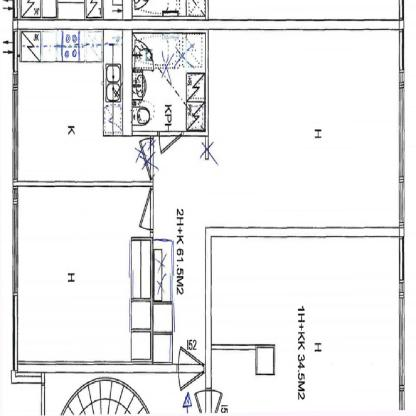door: (176, 346, 206, 390), (137, 189, 158, 234), (136, 140, 157, 178), (194, 390, 222, 416), (157, 130, 185, 155)
window: (12, 72, 18, 180), (13, 187, 19, 292), (400, 71, 404, 223), (400, 281, 404, 409)
zone: (150, 31, 400, 363), (212, 235, 399, 411), (20, 190, 152, 359), (18, 30, 150, 179), (131, 30, 205, 129)
